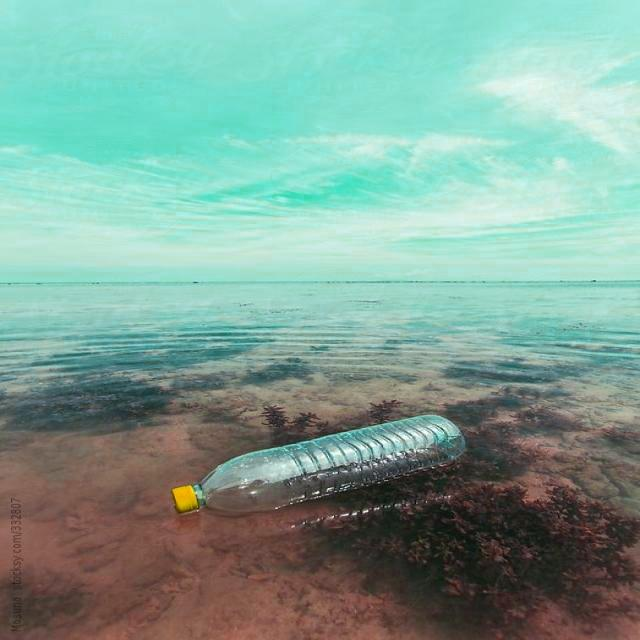Plastic: (168, 412, 469, 520)
